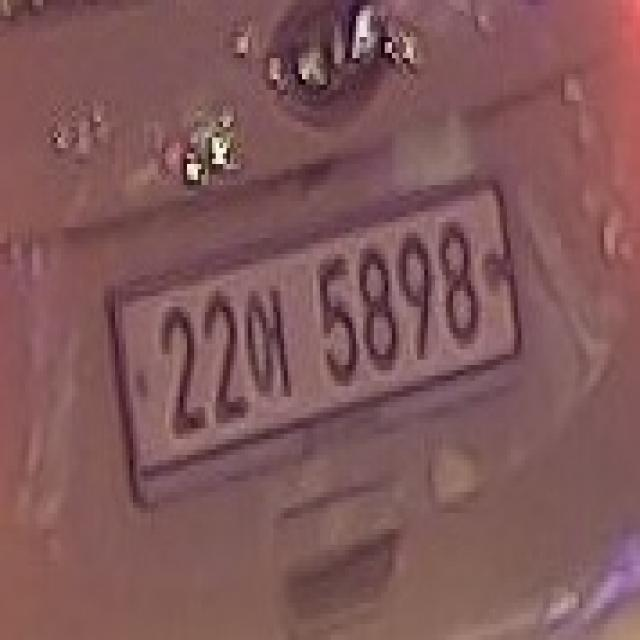2: (147, 292, 216, 446), (196, 281, 257, 431)
5: (312, 240, 369, 398)
8: (437, 204, 491, 365), (358, 234, 408, 382)
9: (399, 219, 441, 366)
eo: (245, 273, 299, 409)
license_plate: (112, 185, 526, 496)
